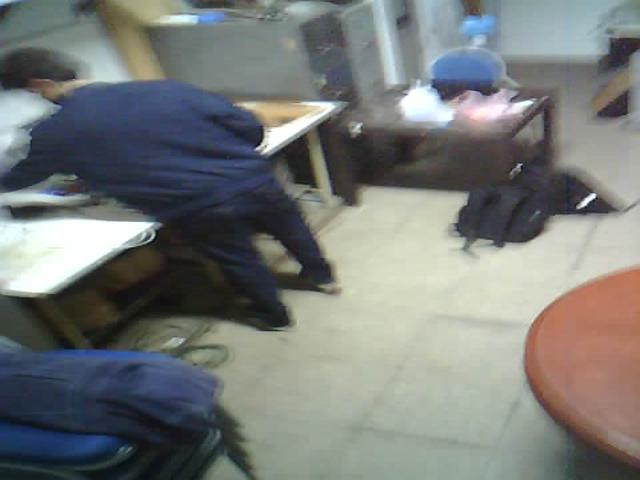person: (0, 35, 363, 336)
